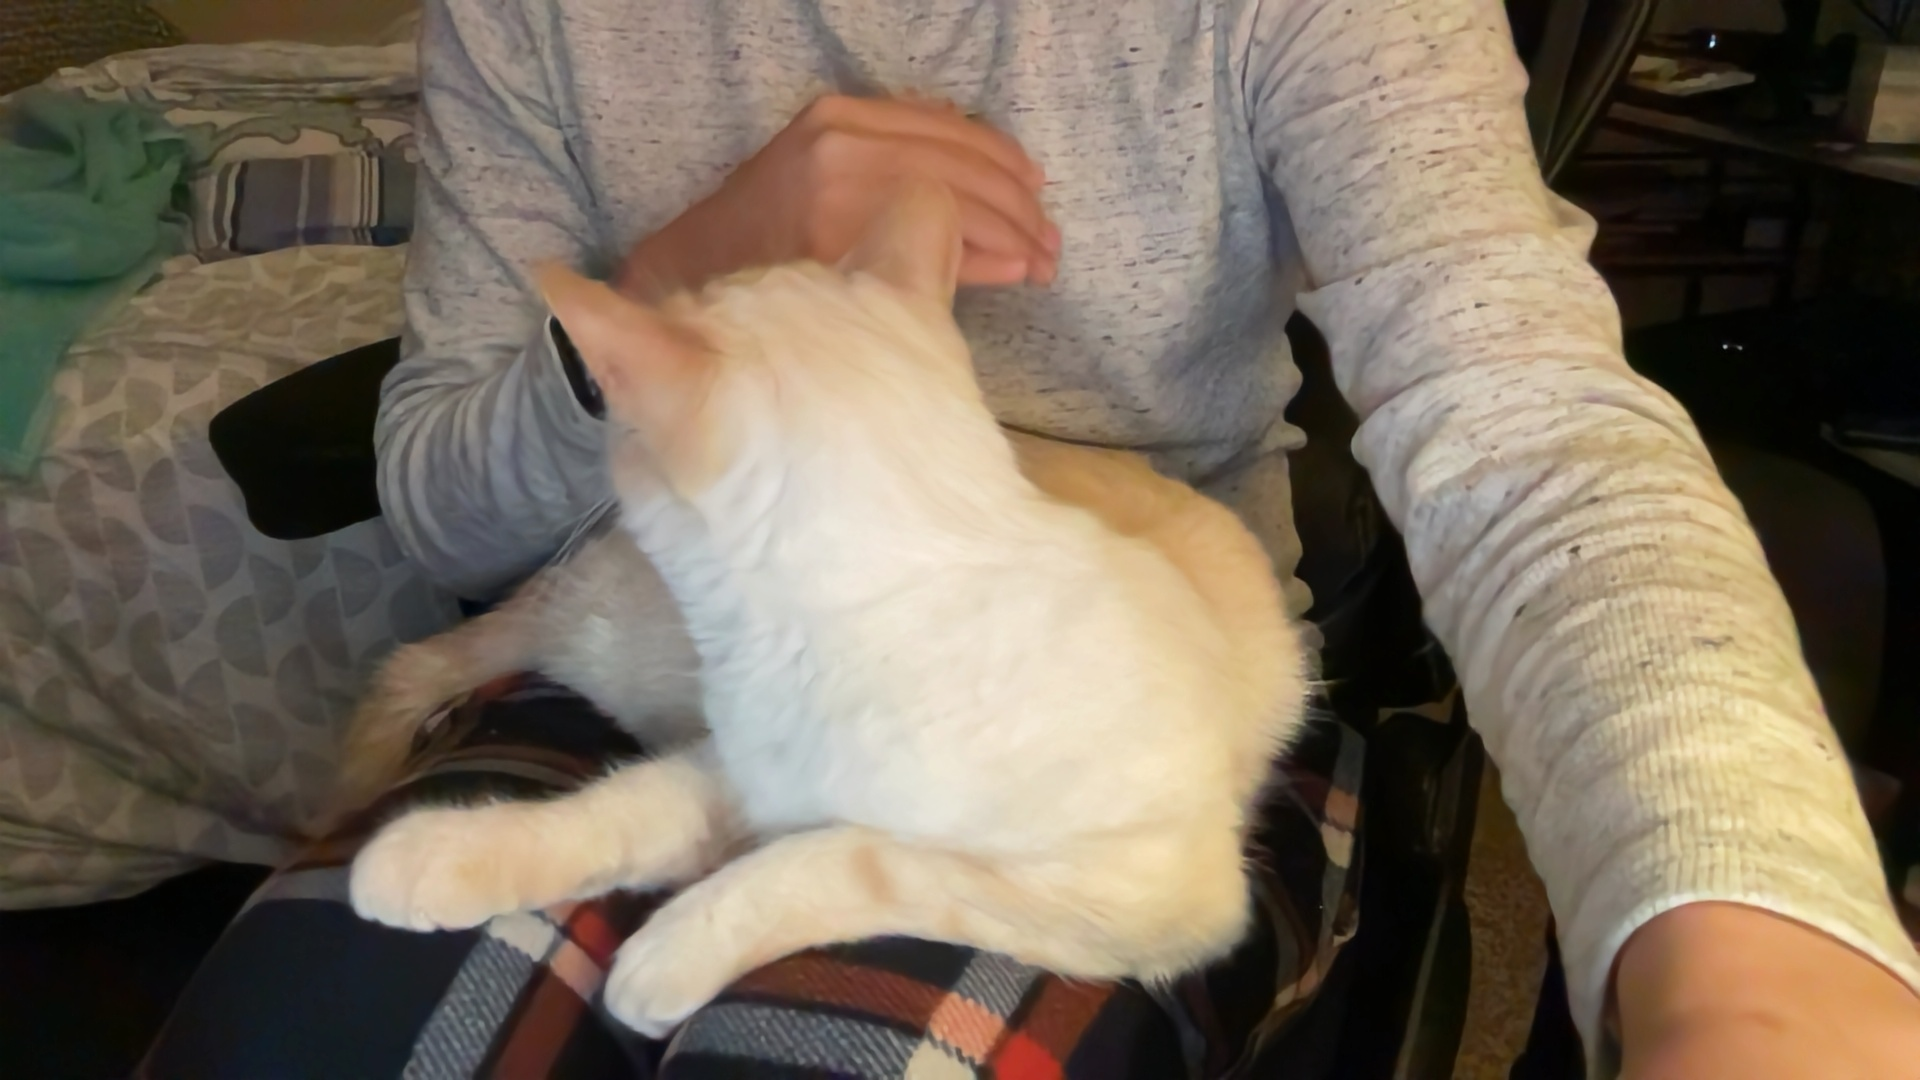cat: (338, 225, 1317, 1033)
